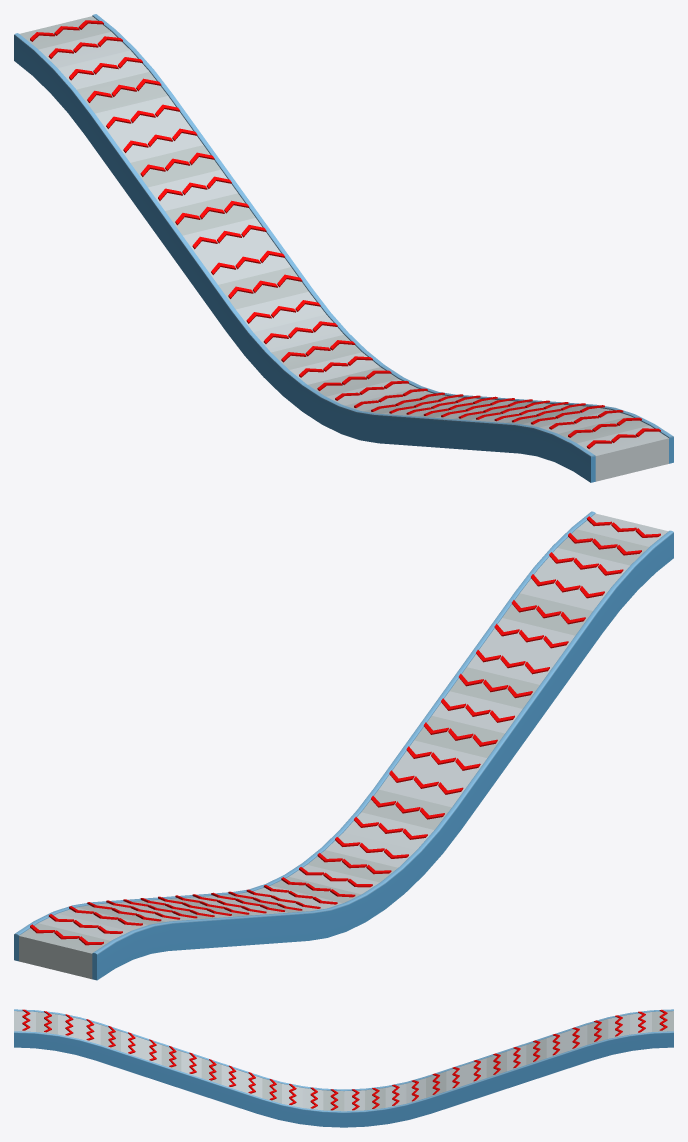
Rendered from conerroad special down.fbx.
3 renders of one model, top to bottom at view 1: azimuth 30°, elevation 25°; view 2: azimuth 150°, elevation 25°; view 3: azimuth 270°, elevation 25°, orthographic. The views are drawn at different scales.
Visible parts, largest first — view 1: conerroadspecial_down, red_arrow_spedownc, red_arrow_spedownl, red_arrow_spedownr; view 2: conerroadspecial_down, red_arrow_spedownl, red_arrow_spedownr, red_arrow_spedownc; view 3: conerroadspecial_down, red_arrow_spedownr, red_arrow_spedownl, red_arrow_spedownc.
Boxes of the visible parts, <box> form: conerroadspecial_down: <box>14,14,673,482</box>; red_arrow_spedownc: <box>54,26,636,442</box>; red_arrow_spedownl: <box>30,32,611,448</box>; red_arrow_spedownr: <box>78,20,660,436</box>; conerroadspecial_down: <box>14,511,673,980</box>; red_arrow_spedownl: <box>78,528,660,945</box>; red_arrow_spedownr: <box>30,516,611,933</box>; red_arrow_spedownc: <box>54,522,636,939</box>; conerroadspecial_down: <box>14,1009,673,1127</box>; red_arrow_spedownr: <box>22,1023,667,1110</box>; red_arrow_spedownl: <box>22,1009,667,1096</box>; red_arrow_spedownc: <box>22,1016,667,1102</box>.
Bounding box in the file's own units: 340 × 659 × 4087.
